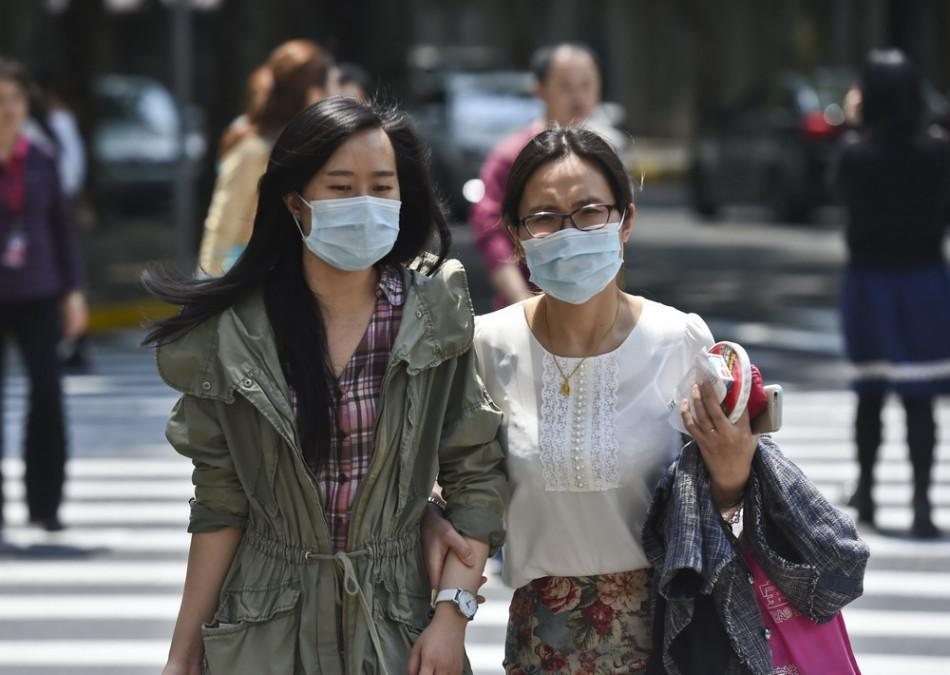NONE: (550, 71, 596, 128)
OK: (521, 186, 628, 293), (305, 167, 406, 268)
